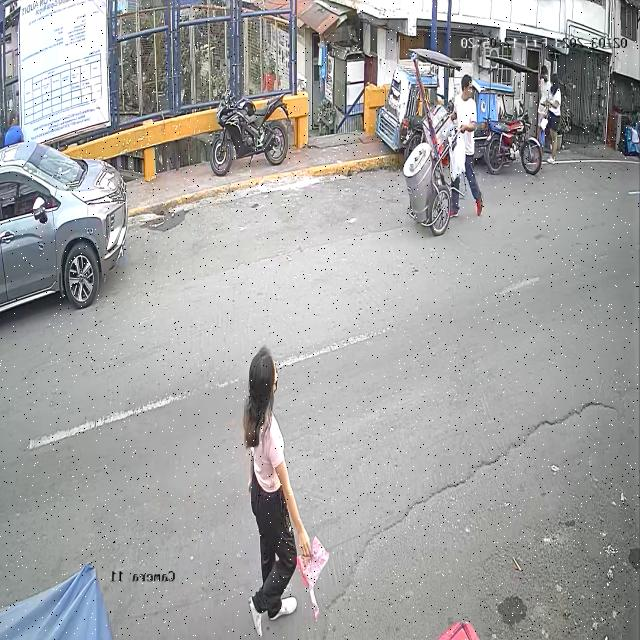human: (244, 346, 330, 640)
trash: (294, 530, 332, 614)
